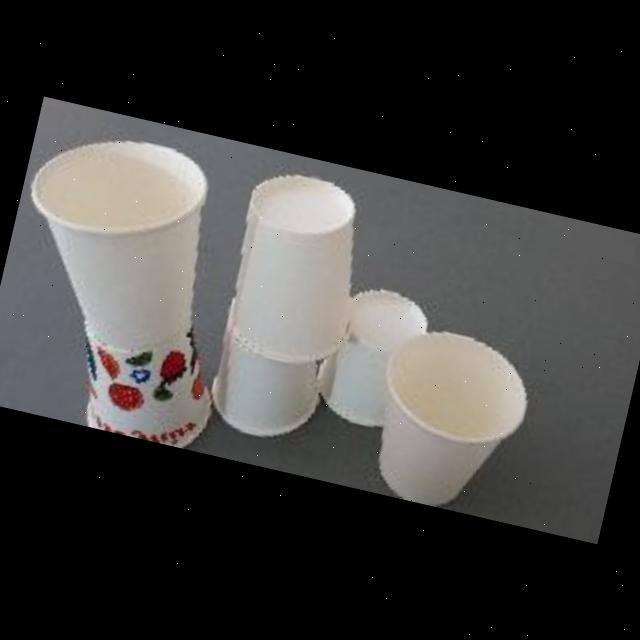trash: (1, 117, 222, 363)
